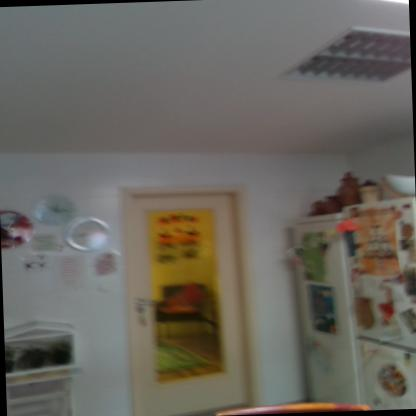closed: (110, 178, 262, 412)
